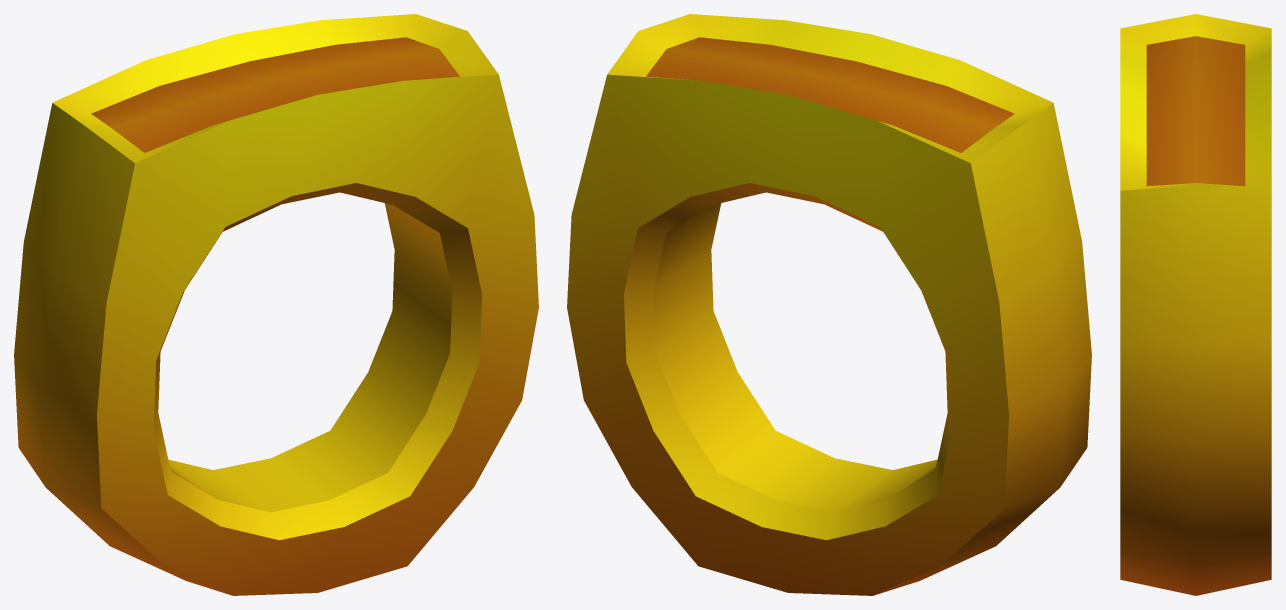
File: Gold_Ring_02.glb
The picture shows the model from 3 angles, left to right: view 1: azimuth 30°, elevation 25°; view 2: azimuth 150°, elevation 25°; view 3: azimuth 270°, elevation 25°; orthographic projection. The views are drawn at different scales.
Parts seen in each view (by area): view 1: Gold_Ring_02; view 2: Gold_Ring_02; view 3: Gold_Ring_02.
Part boxes in pixels (x1,y1,x2,y2): Gold_Ring_02: [14, 14, 538, 595]; Gold_Ring_02: [567, 14, 1091, 595]; Gold_Ring_02: [1120, 14, 1271, 595].
Bounding box in the file's own units: 0.4853 × 0.5053 × 0.1478.
1 material, 1 textured.
